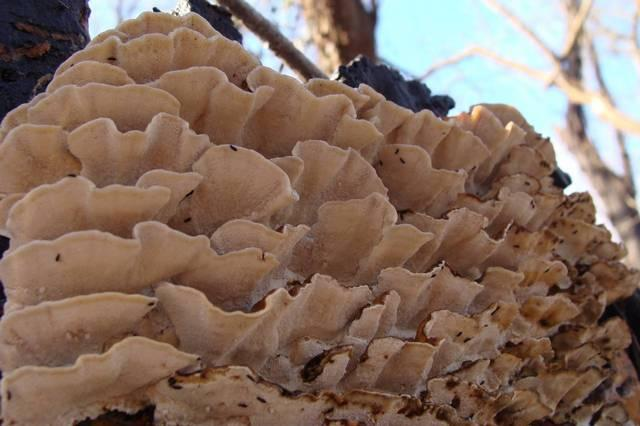Non-edible Mushroom: (0, 8, 637, 425)
